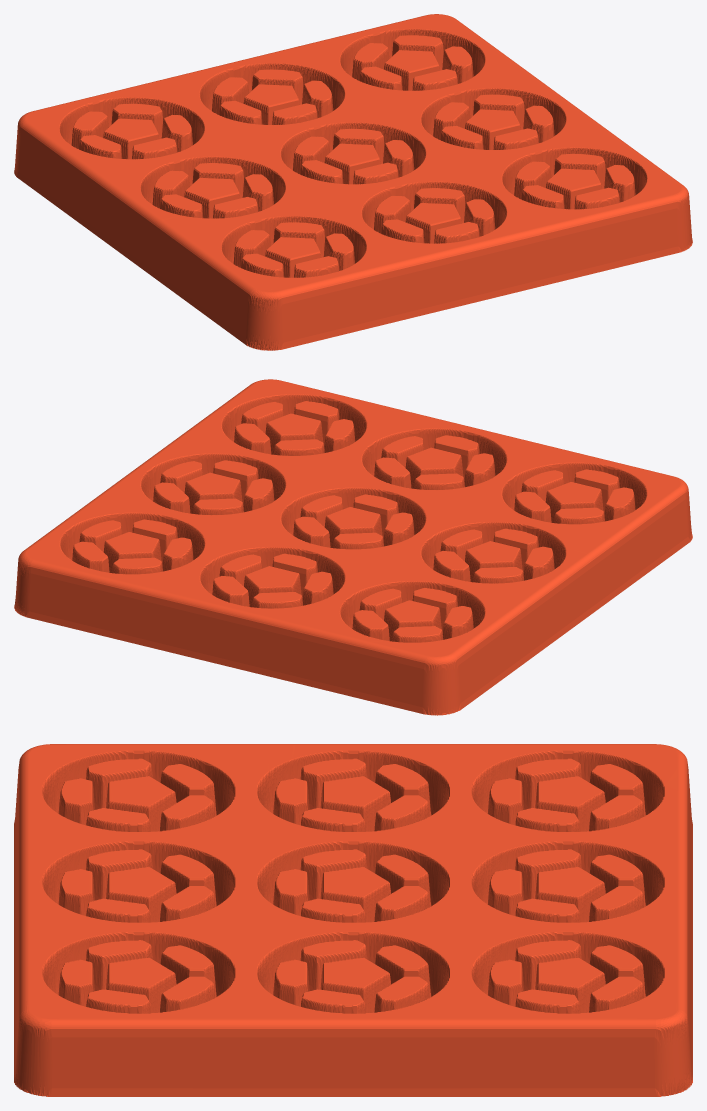
The model's file is mold.glb.
3 views of the same model, one above another, from view 1: azimuth 30°, elevation 25°; view 2: azimuth 150°, elevation 25°; view 3: azimuth 270°, elevation 25° (orthographic). The views are drawn at different scales.
Parts seen in each view (by area): view 1: geometry_0; view 2: geometry_0; view 3: geometry_0.
Boxes of the visible parts, bbox=[...] form: geometry_0: bbox=[14, 14, 692, 350]; geometry_0: bbox=[14, 379, 692, 715]; geometry_0: bbox=[14, 744, 692, 1096].
Bounding box in the file's own units: 0.1595 × 0.0185 × 0.1595.
